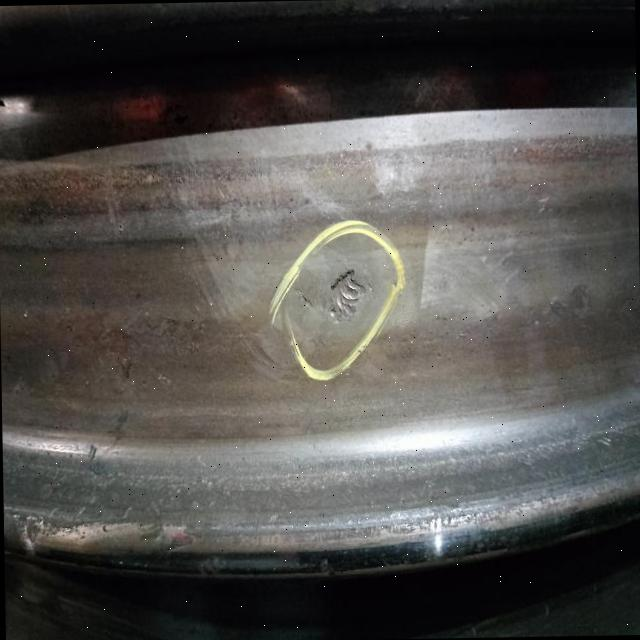Peeling: (329, 270, 367, 321)
